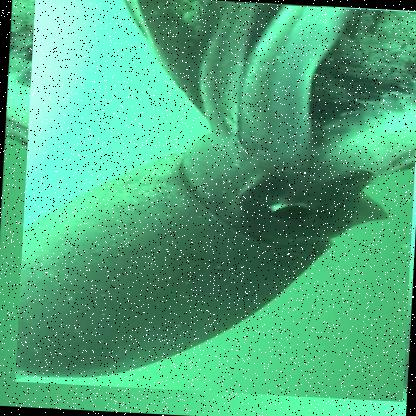colossal_squid: (12, 0, 415, 402)
